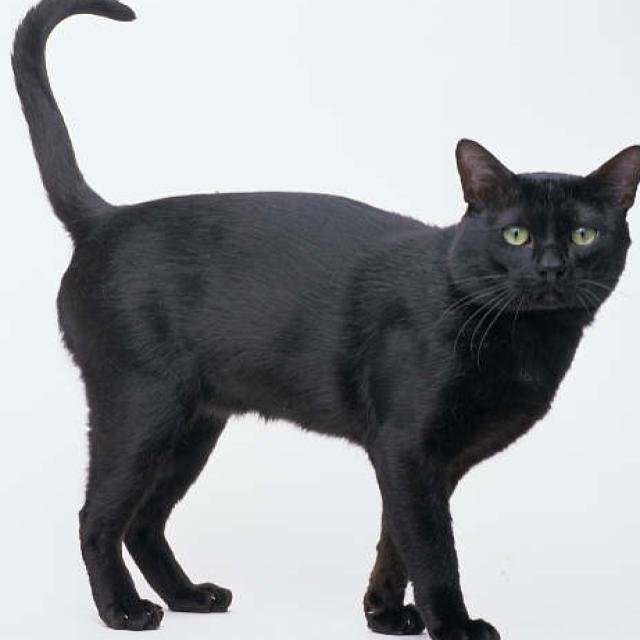Bombay: (8, 0, 640, 640)
